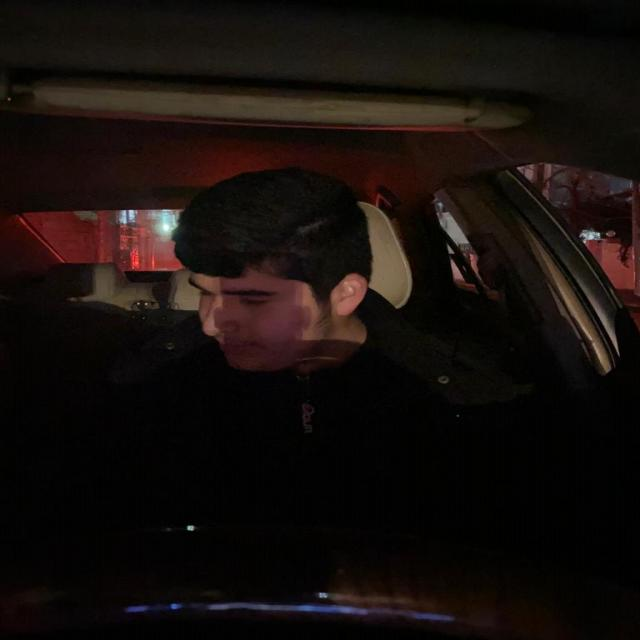drowsy: (180, 176, 378, 370)
